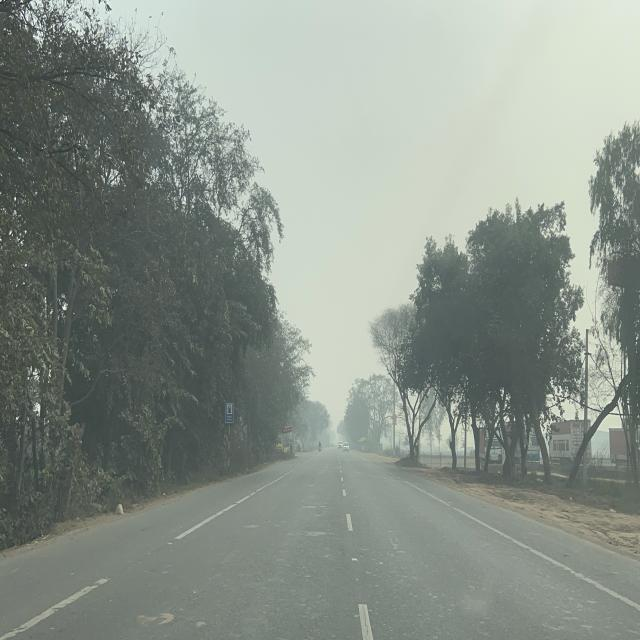INFORMATION: (225, 402, 234, 423)
